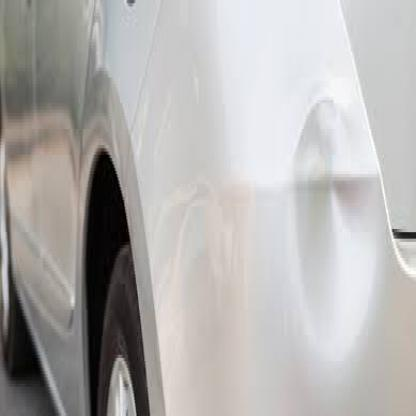dent: (288, 80, 378, 358)
